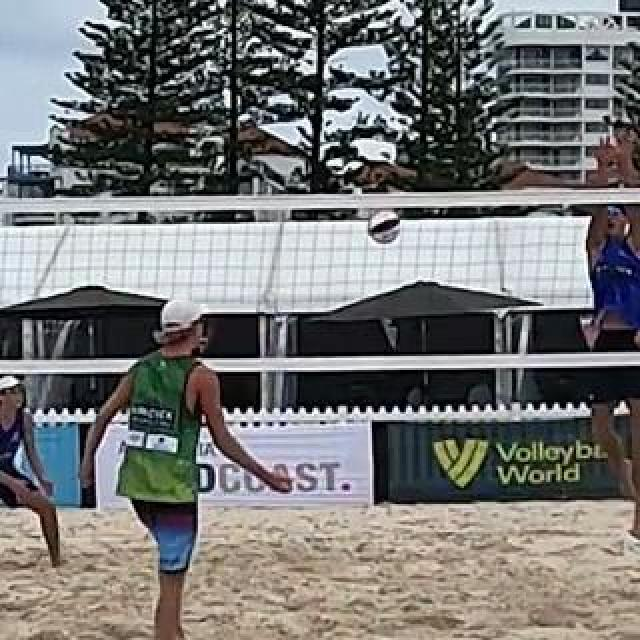volleyball: (367, 211, 401, 245)
